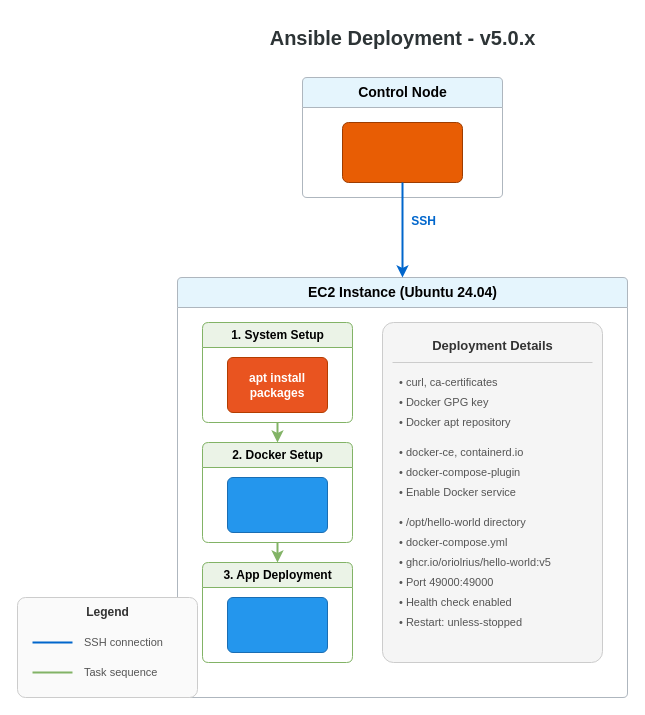
Image size: 645x715. Some labels were removed from this diagram. Each missing label, with the centre of its shape:
"Ansible Playbook" goes at [402,152].
"Docker CE + Compose" goes at [277,504].
"hello-world container" goes at [277,624].
